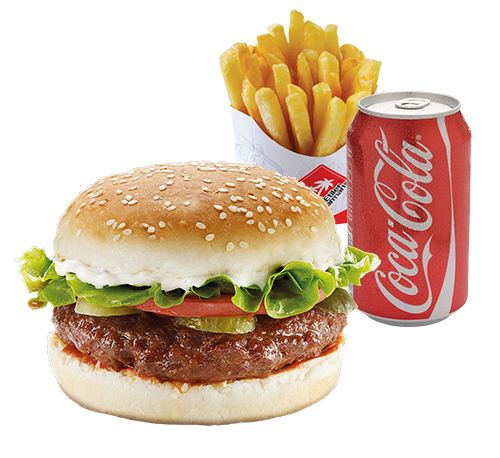hamburger: (29, 167, 360, 436)
